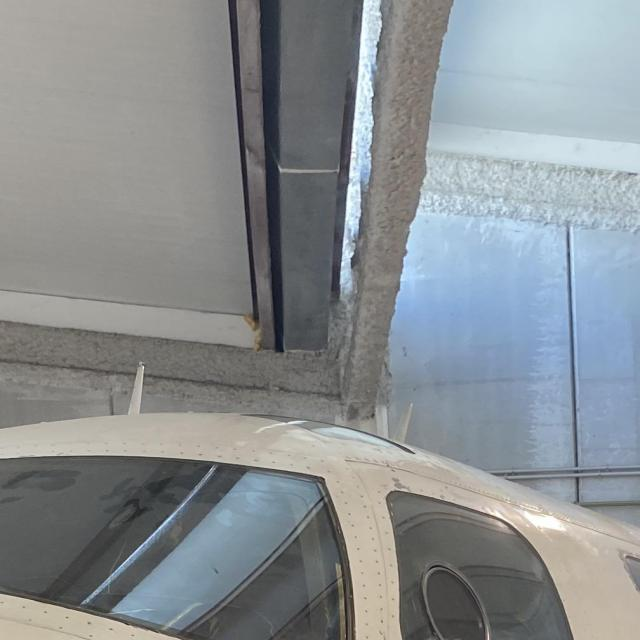Paint-off: (391, 474, 420, 492), (430, 480, 455, 499)
